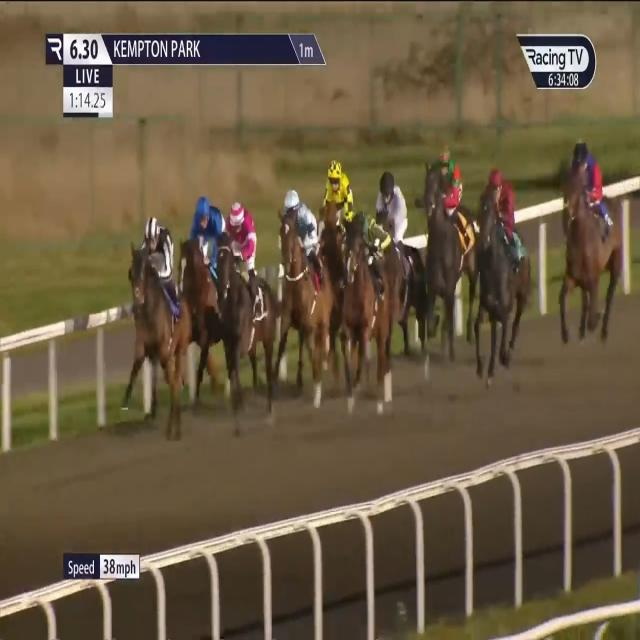horses-racing: (273, 187, 345, 403), (133, 212, 199, 420), (562, 132, 626, 338), (219, 200, 280, 407), (475, 169, 535, 374), (340, 202, 398, 384), (424, 149, 476, 336), (371, 169, 418, 336), (181, 195, 230, 352), (318, 156, 363, 300)
